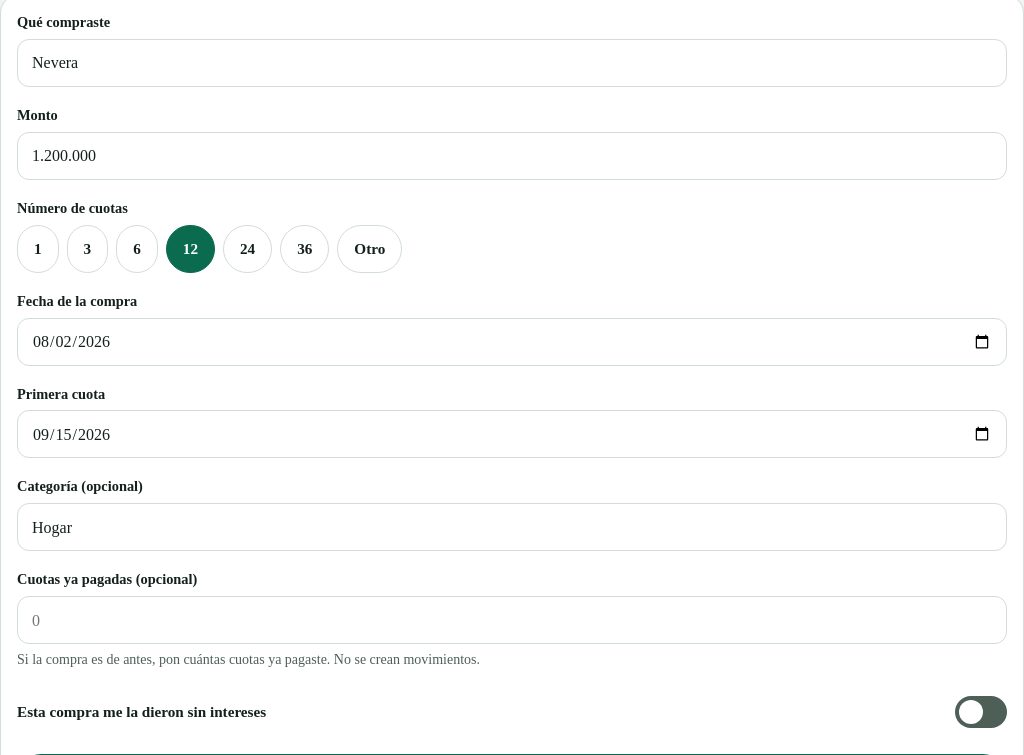
Test: I7: editar una compra › cambiar el número de cuotas confirma
The width and height of the screenshot is (1024, 755).
Click the radio button labelled "6".
click(137, 249)  # box x1=116 y1=225 x2=158 y2=273
(page scrolled)
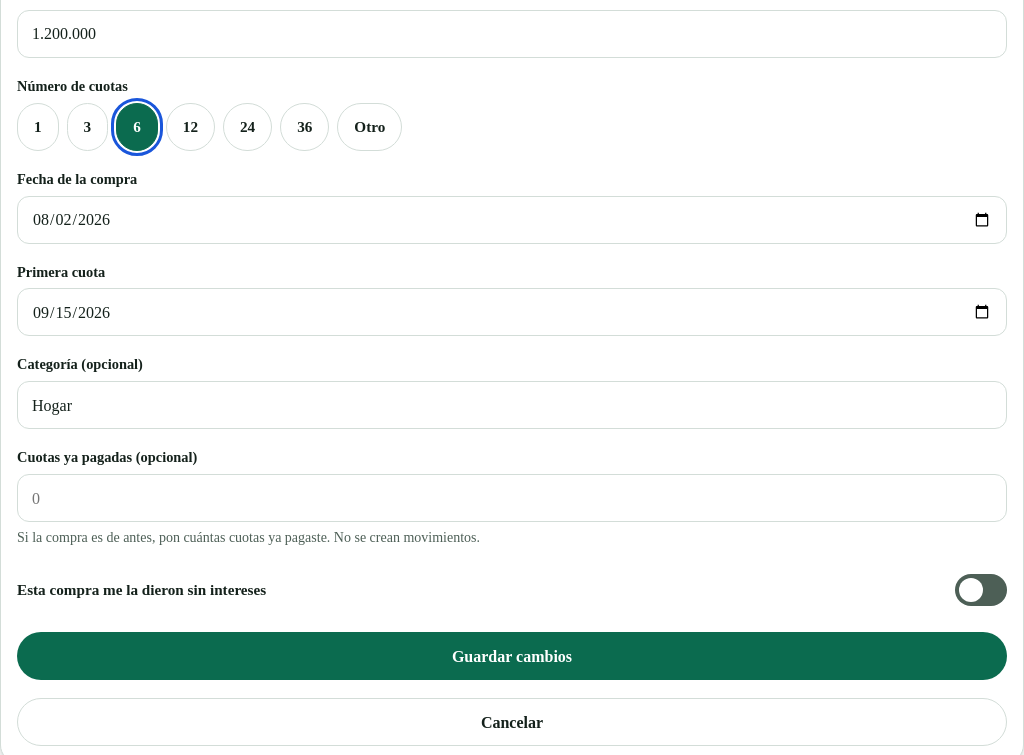
Click the button "Guardar cambios".
click(512, 656)  # box x1=17 y1=632 x2=1007 y2=680
(page scrolled)
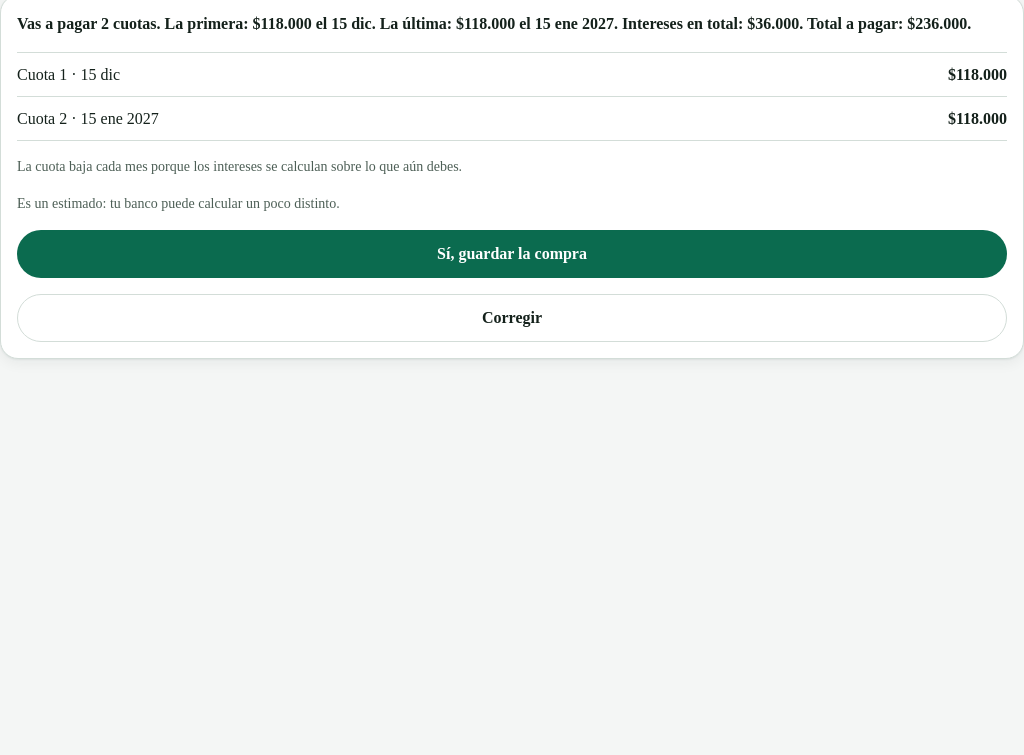
Result: the text "Vas a pagar" is shown at x1=17 y1=15 x2=971 y2=32
